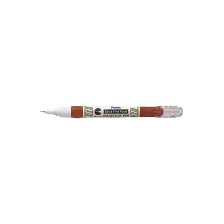correction_fluid: (35, 103, 185, 121)
